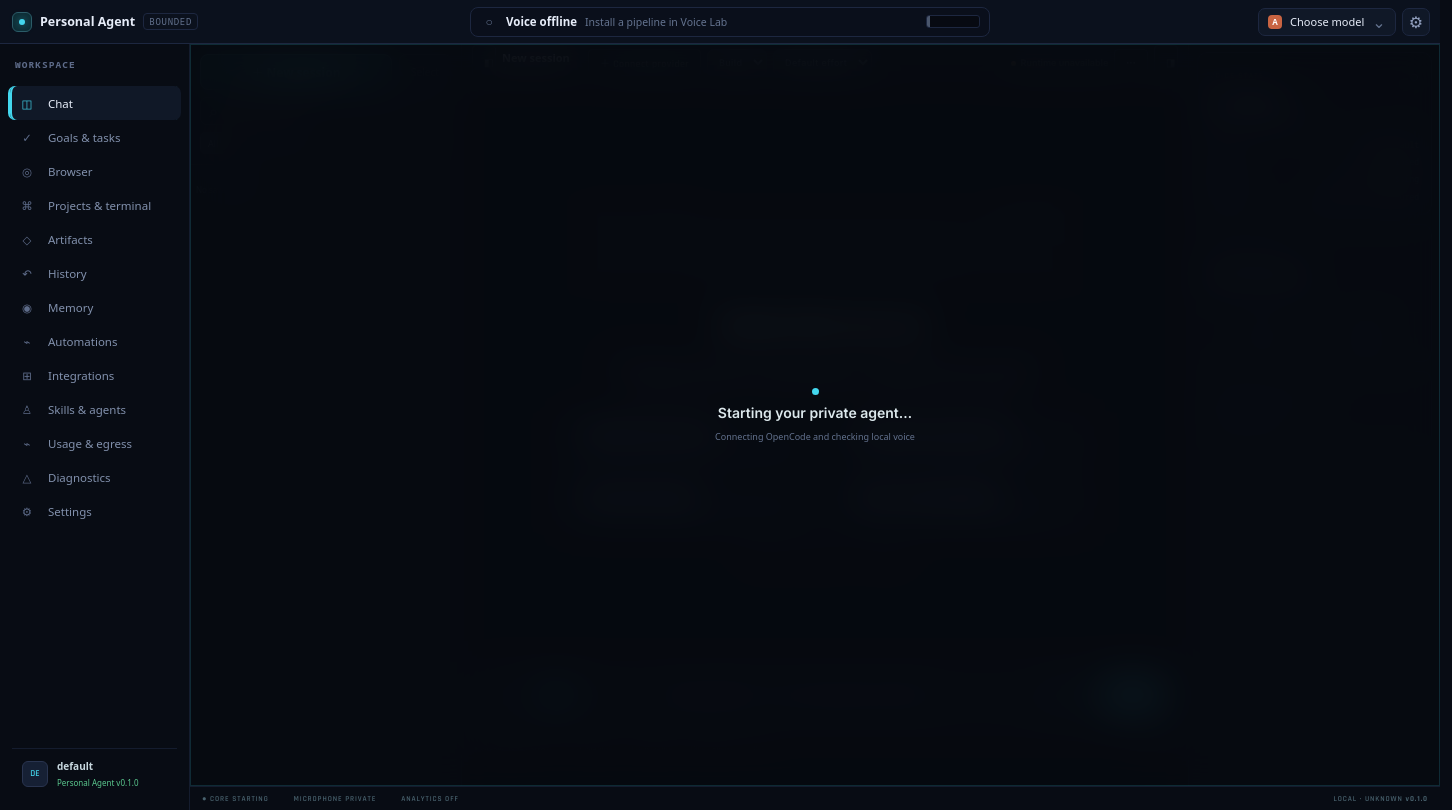
Test: desktop workspace › exposes every configuration category plus full managed OpenCode JSON
The image size is (1452, 810).
Click the button "⚙ Settings".
click(94, 511)  # box left=8, top=494, right=181, bottom=528
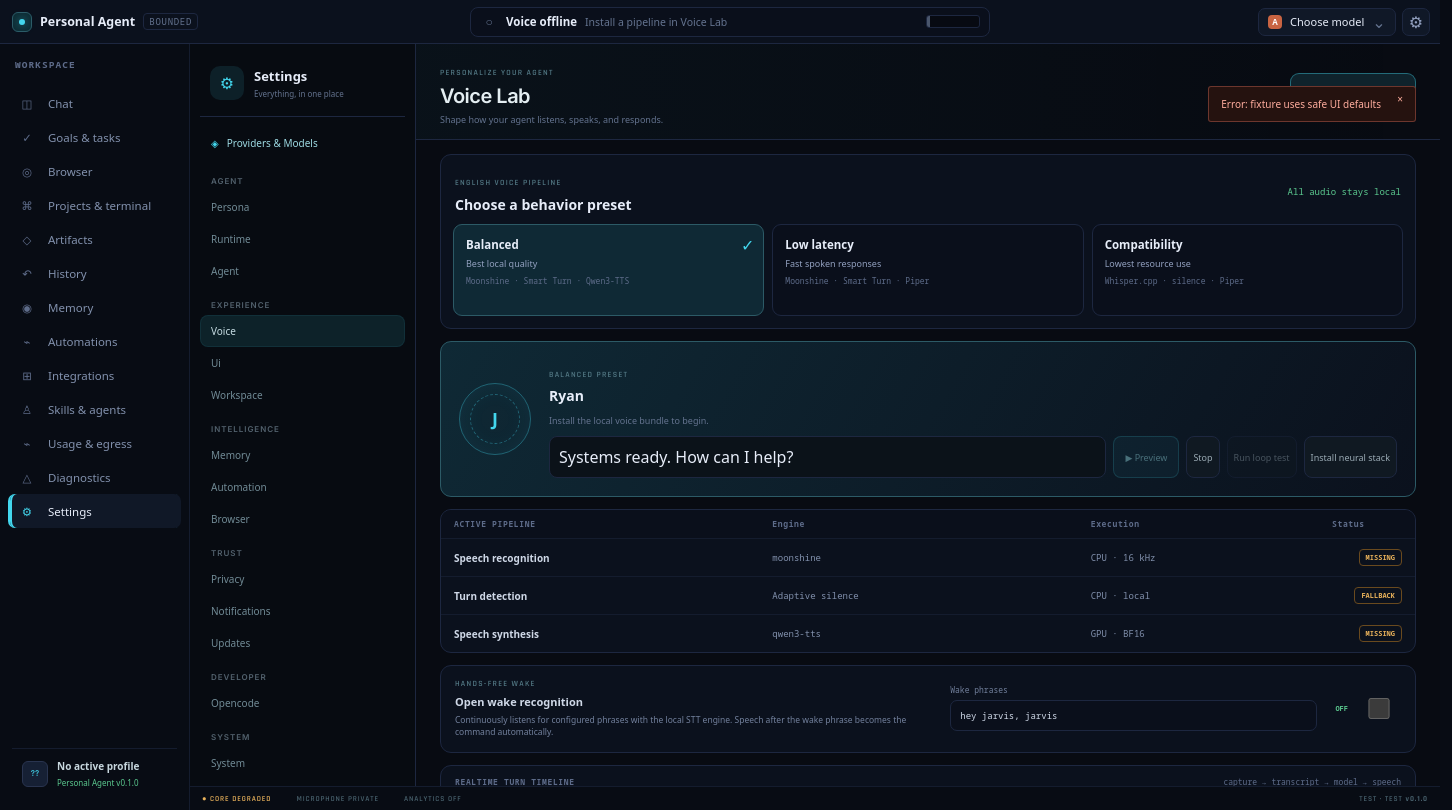
Expected: the heading "Voice Lab" is shown, left=440, top=84, right=530, bottom=108
Expected: the button "Persona" is shown, left=200, top=191, right=405, bottom=223
Expected: the button "Agent" is shown, left=200, top=255, right=405, bottom=287
Click the button "Opencode".
click(302, 703)  # box left=200, top=687, right=405, bottom=719
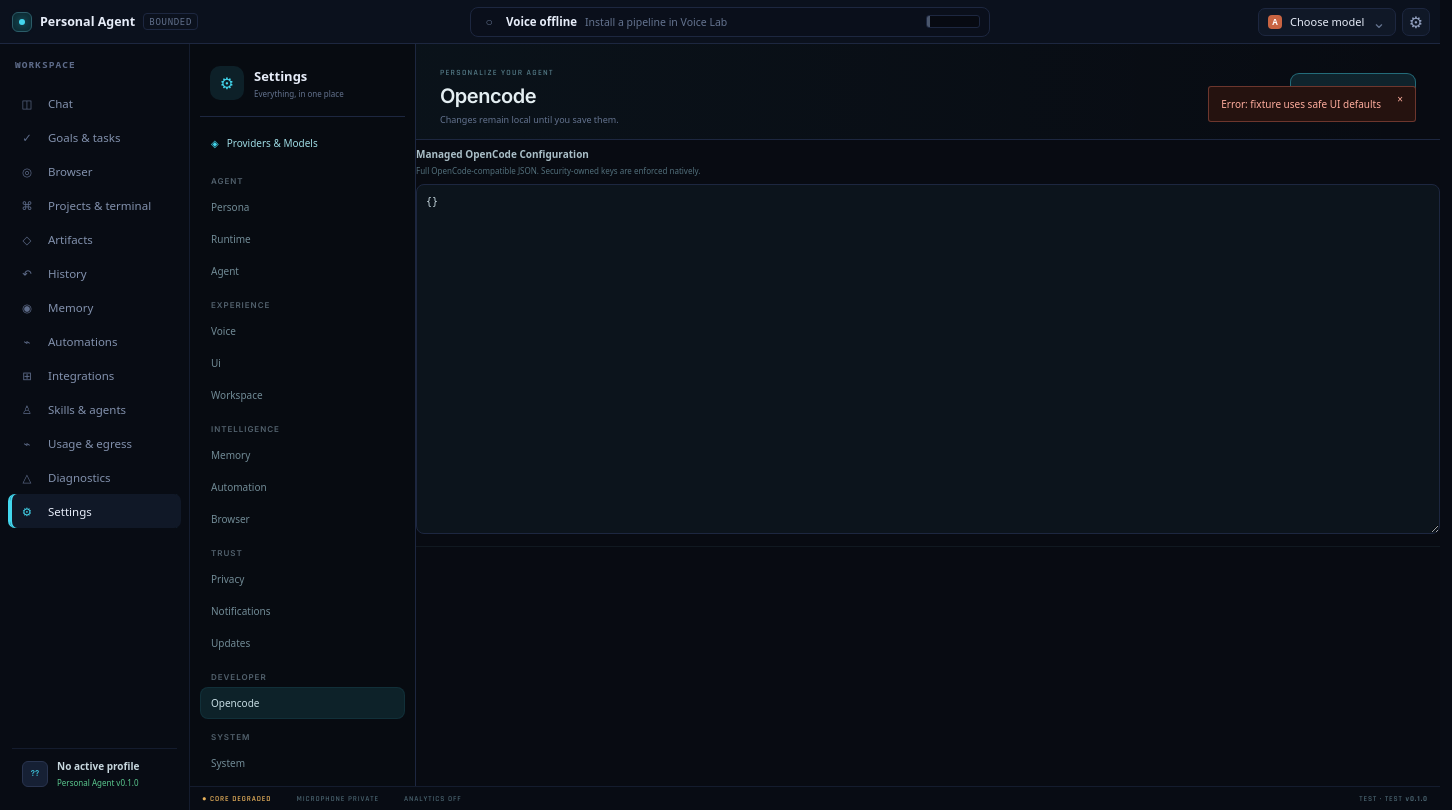
Expected: the text "Full OpenCode-compatible JSON" is shown, left=416, top=165, right=700, bottom=176
Click the button "System".
click(302, 763)  # box left=200, top=747, right=405, bottom=779
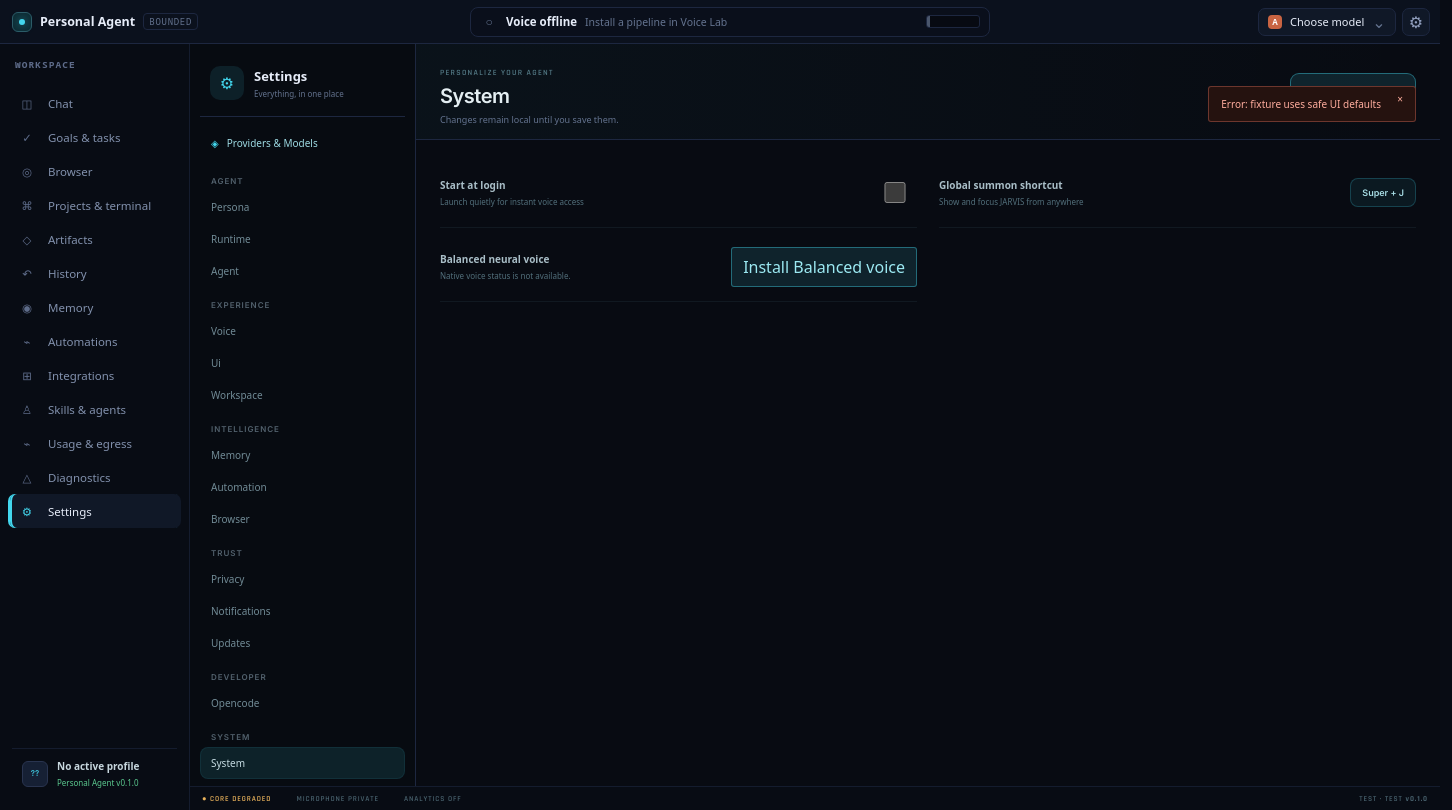
Expected: the button named "Save all changes" is enabled, left=1290, top=72, right=1416, bottom=110
Expected: the text "Super + J" is shown, left=1350, top=178, right=1416, bottom=207
